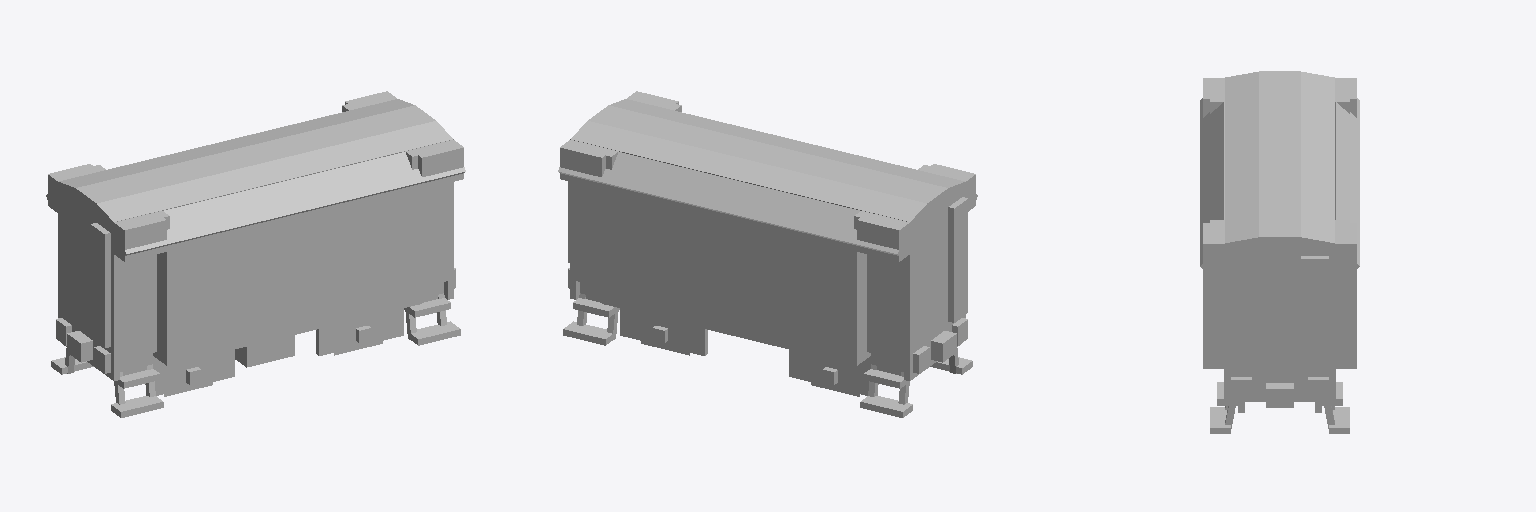
The model's file is 2class_db.obj.
The picture shows the model from 3 angles: view 1: azimuth 30°, elevation 25°; view 2: azimuth 150°, elevation 25°; view 3: azimuth 270°, elevation 25°; orthographic projection.
Visible parts, largest first — view 1: box10, box17, box16, box13, box20, box18, box30, box23, box52, box61, box6, box60 (+8 smaller); view 2: box41, box19, box18, box13, box20, box16, box23, box54, box14, box61, box8, box60 (+7 smaller); view 3: box22, box13, box16, box18, box60, box21, box17, box19, box37, box23, box11, box41 (+1 smaller).
Boxes of the visible parts, <box> form: box10: <box>164,184,421,365</box>; box17: <box>109,152,465,258</box>; box16: <box>95,121,453,229</box>; box13: <box>76,105,435,213</box>; box20: <box>58,214,119,380</box>; box18: <box>58,99,413,200</box>; box30: <box>120,254,156,354</box>; box23: <box>48,164,166,261</box>; box52: <box>422,183,447,280</box>; box61: <box>91,223,110,348</box>; box6: <box>316,308,403,355</box>; box60: <box>345,91,463,188</box>; box41: <box>602,184,859,365</box>; box19: <box>558,152,912,258</box>; box18: <box>570,121,928,232</box>; box13: <box>588,105,947,211</box>; box20: <box>904,227,965,380</box>; box16: <box>610,99,964,200</box>; box23: <box>857,164,975,261</box>; box54: <box>867,254,903,354</box>; box14: <box>576,183,601,280</box>; box61: <box>948,197,967,322</box>; box8: <box>620,308,707,355</box>; box60: <box>560,91,678,188</box>; box22: <box>1224,275,1335,401</box>; box13: <box>1259,71,1300,249</box>; box16: <box>1225,72,1260,254</box>; box18: <box>1301,72,1334,254</box>; box60: <box>1203,223,1356,274</box>; box21: <box>1301,256,1328,373</box>; box17: <box>1200,98,1232,274</box>; box19: <box>1327,98,1359,274</box>; box37: <box>1210,220,1349,368</box>; box23: <box>1203,78,1356,117</box>; box11: <box>1266,383,1293,407</box>; box41: <box>1350,275,1356,368</box>.
Size of the model in its own units: 3.75 by 2 by 1.43.